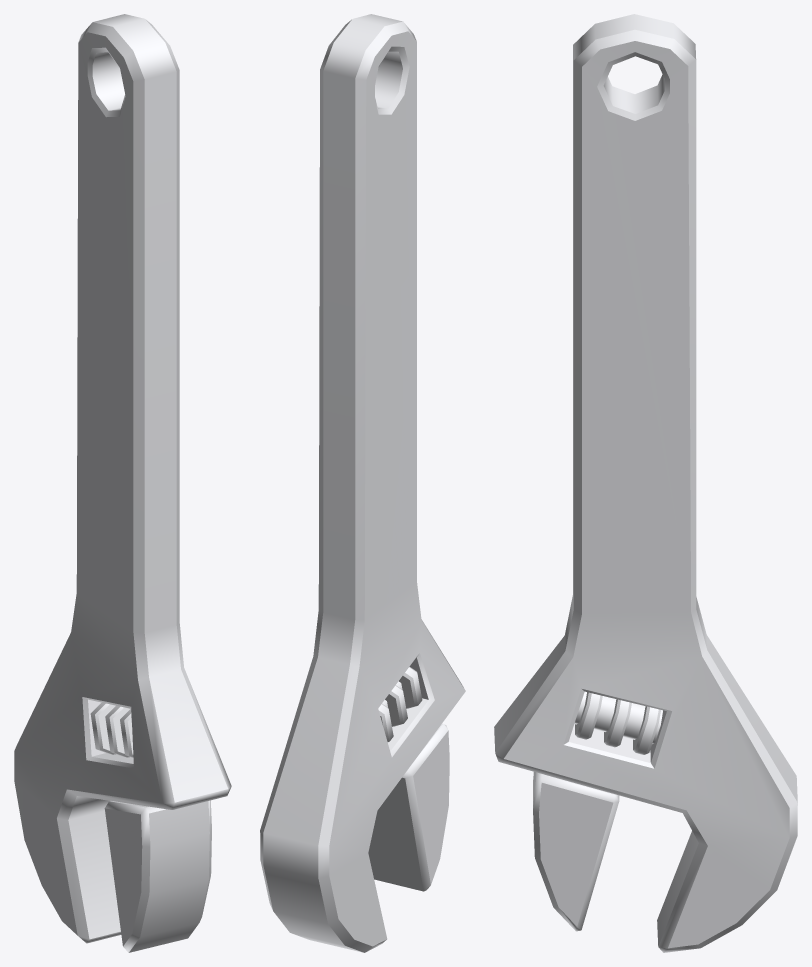
The model's file is Wrench.fbx.
The picture shows the model from 3 angles, left to right: view 1: azimuth 30°, elevation 25°; view 2: azimuth 150°, elevation 25°; view 3: azimuth 270°, elevation 25°; orthographic projection. The views are drawn at different scales.
Visible parts, largest first — view 1: Utaha_Original_Spanner1; view 2: Utaha_Original_Spanner1; view 3: Utaha_Original_Spanner1.
Part boxes in pixels (left/top/right/bottom): Utaha_Original_Spanner1: left=14, top=14, right=231, bottom=952; Utaha_Original_Spanner1: left=260, top=14, right=465, bottom=952; Utaha_Original_Spanner1: left=494, top=14, right=797, bottom=952.
Size of the model in its own units: 0.0211 by 0.2509 by 0.0753.
